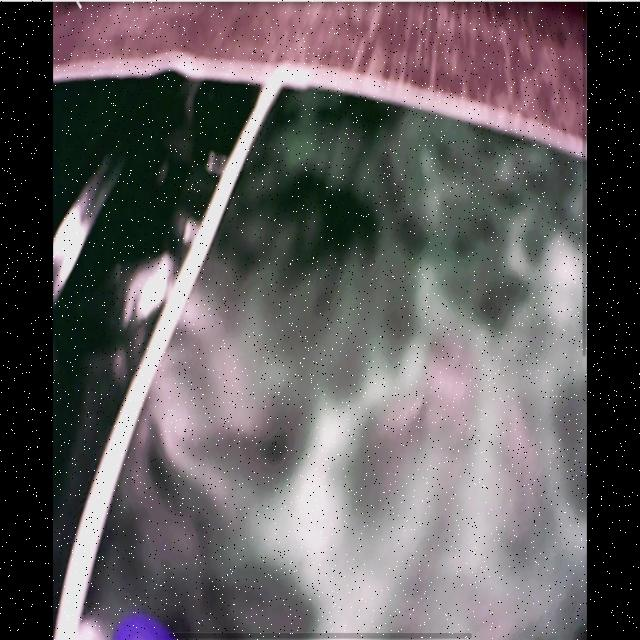ball: (112, 617, 172, 640)
